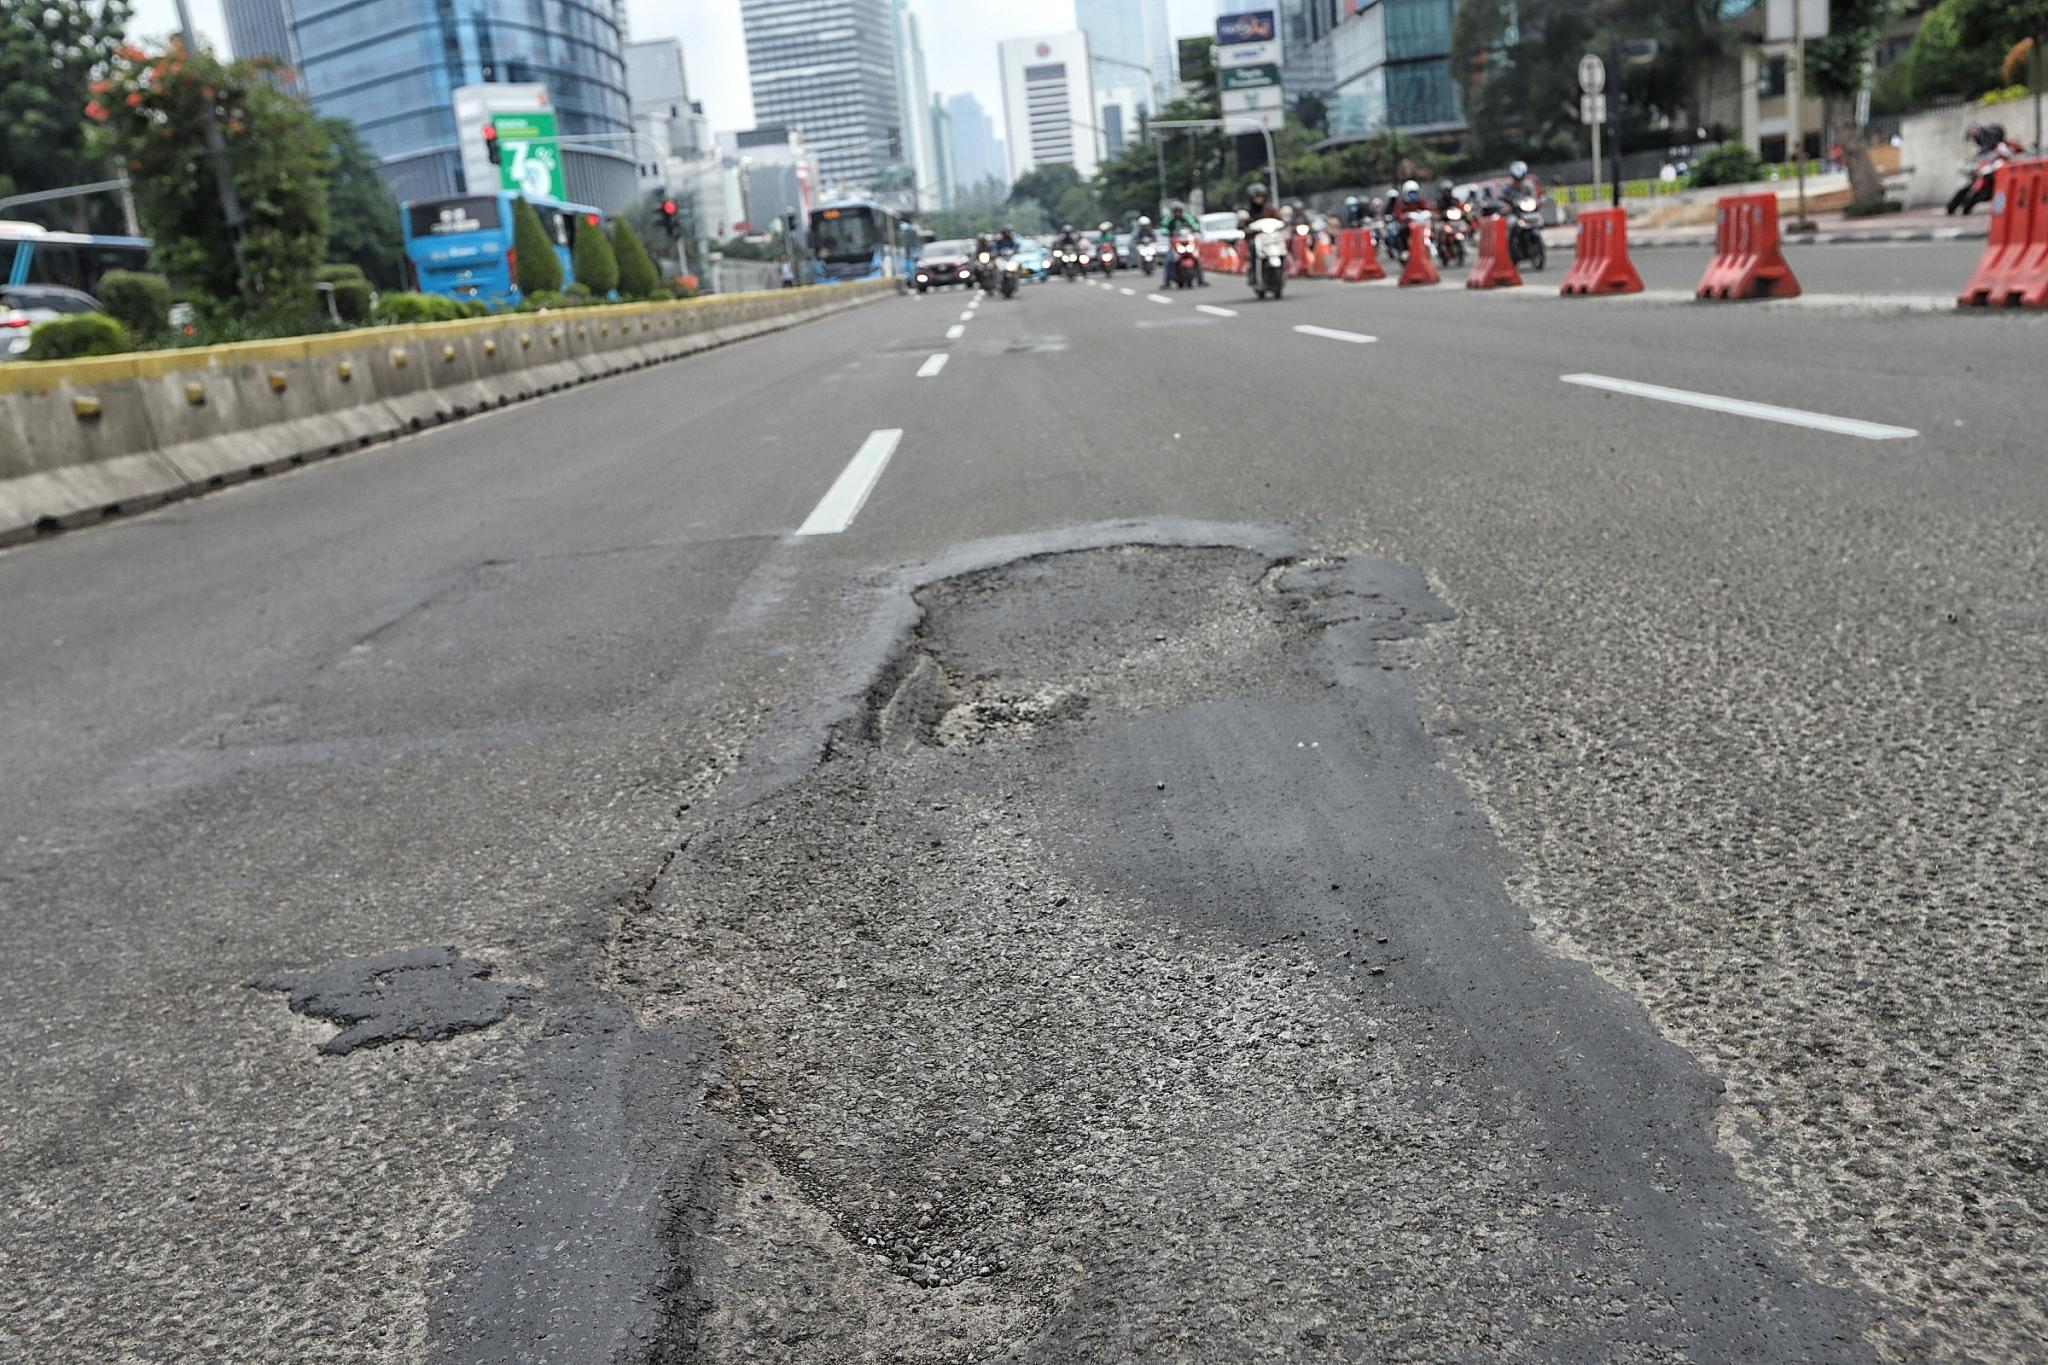Pothole: (286, 503, 1750, 1365)
